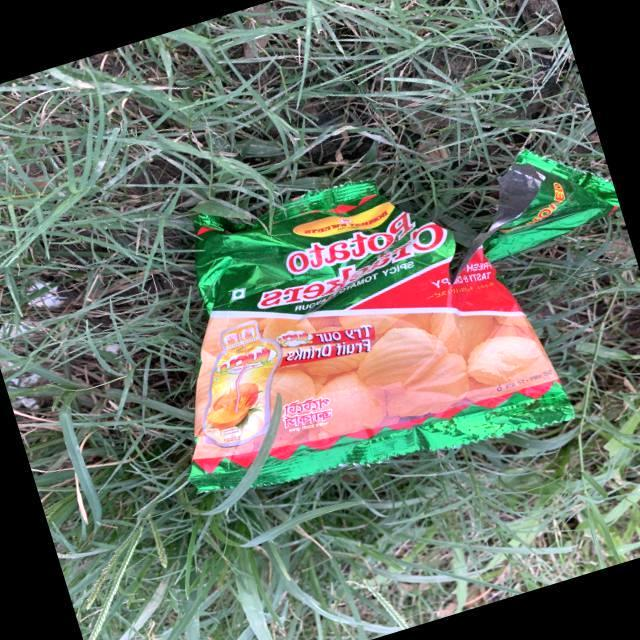packet: (224, 211, 511, 473)
